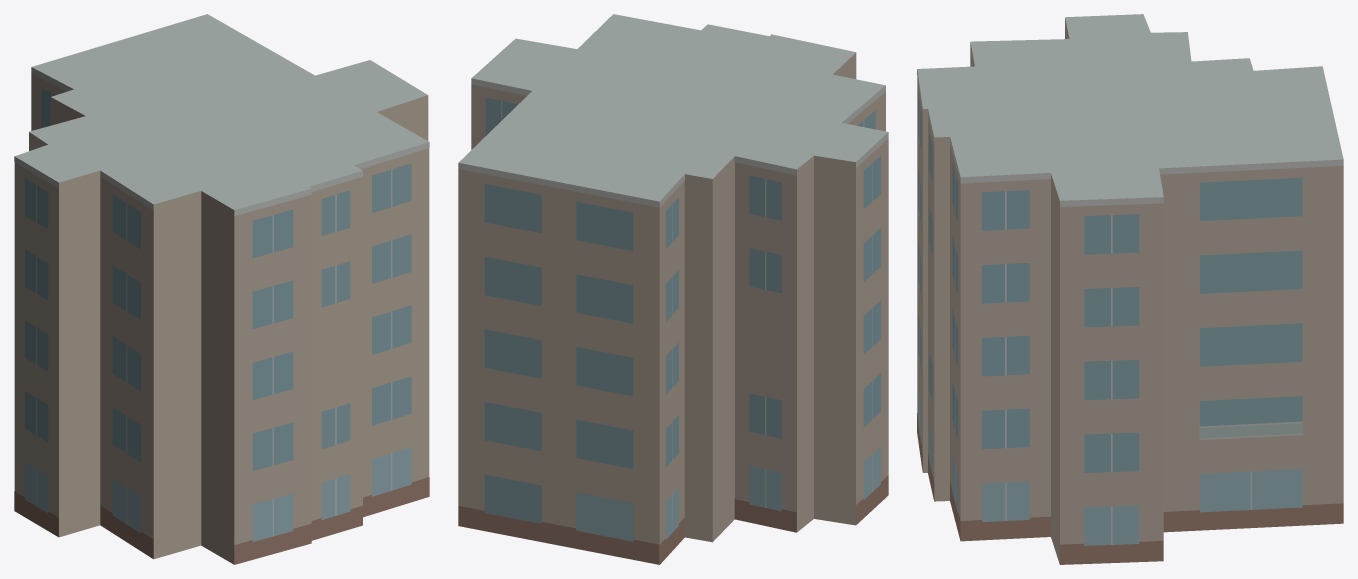
Rendered from survey-upis-32752038.glb.
3 renders of one model, left to right at view 1: azimuth 30°, elevation 25°; view 2: azimuth 150°, elevation 25°; view 3: azimuth 270°, elevation 25°, orthographic. The views are drawn at different scales.
Visible parts, largest first — view 1: survey-upis-32752038.tmp; view 2: survey-upis-32752038.tmp; view 3: survey-upis-32752038.tmp.
Boxes of the visible parts, box(x1,y1,x2,y2) form: survey-upis-32752038.tmp: box(14, 14, 429, 564); survey-upis-32752038.tmp: box(458, 14, 888, 564); survey-upis-32752038.tmp: box(917, 14, 1343, 564).
Bounding box in the file's own units: 15.75 × 14.3 × 15.19.
